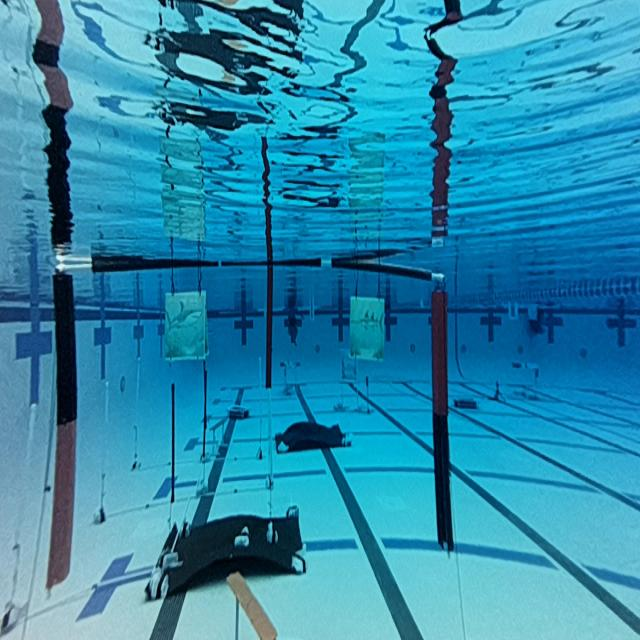pointed_nose: (350, 293, 386, 361)
round_nose: (164, 287, 211, 368)
